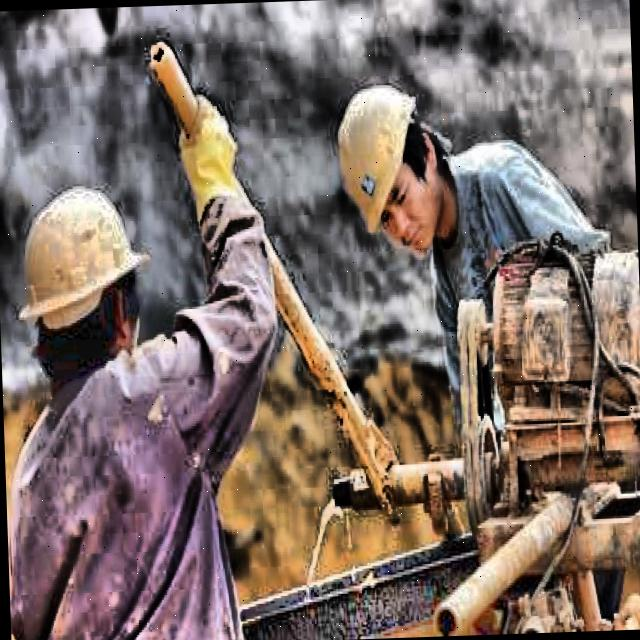helmet: (12, 157, 148, 395), (316, 66, 453, 277)
